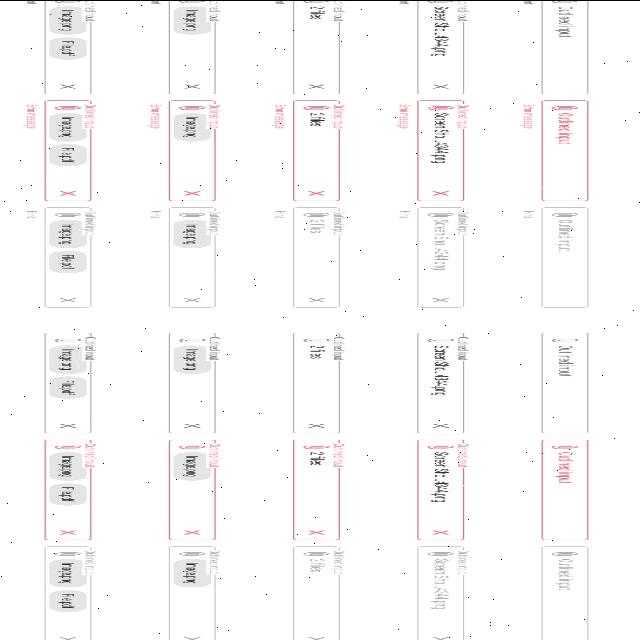VFileInput: (22, 98, 98, 200), (21, 205, 96, 308), (397, 98, 471, 200), (272, 98, 346, 200), (148, 98, 222, 200), (149, 205, 222, 308), (273, 205, 346, 308), (518, 98, 591, 200), (397, 205, 469, 308), (521, 205, 591, 308), (399, 0, 473, 93), (26, 0, 98, 94), (275, 0, 347, 93), (151, 0, 222, 93), (522, 0, 591, 93), (414, 331, 470, 433), (166, 331, 222, 433), (414, 438, 470, 540), (290, 438, 346, 540), (166, 438, 222, 540), (42, 438, 98, 540), (291, 331, 346, 433), (42, 331, 97, 433), (166, 544, 222, 640), (539, 438, 591, 540), (416, 544, 471, 640), (42, 544, 97, 640), (540, 331, 590, 433), (292, 544, 345, 640), (540, 544, 592, 640)
